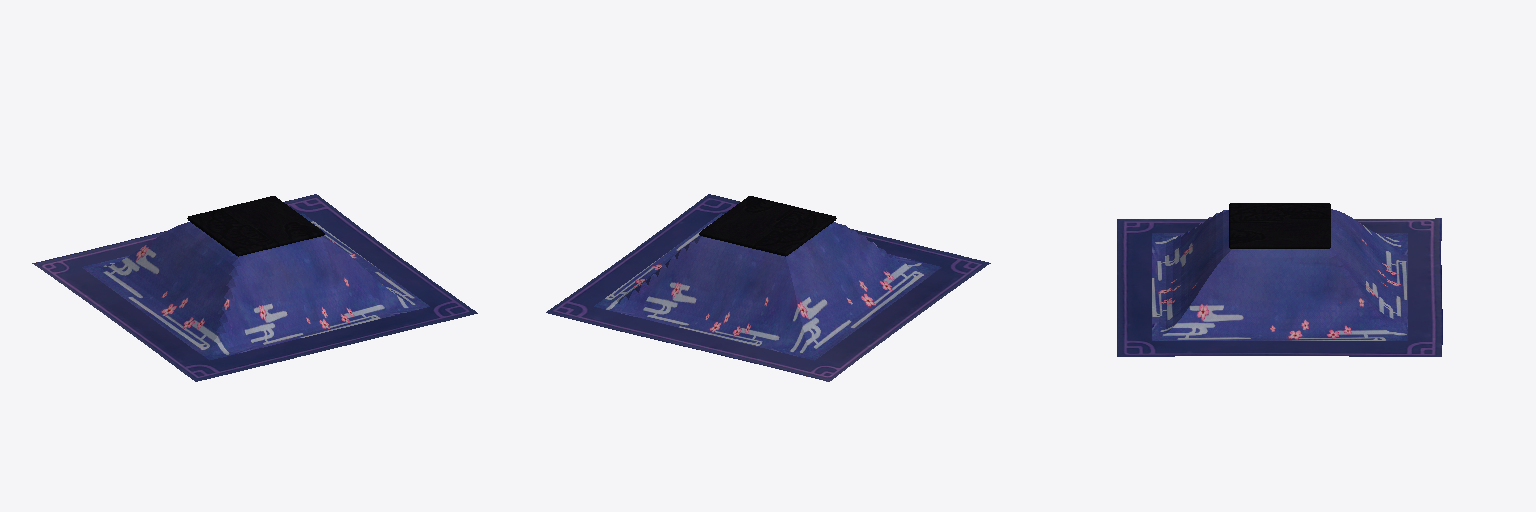
The picture shows the model from 3 angles: view 1: azimuth 30°, elevation 25°; view 2: azimuth 150°, elevation 25°; view 3: azimuth 270°, elevation 25°; orthographic projection.
Visible parts, largest first — view 1: Plane.005; view 2: Plane.005; view 3: Plane.005.
Boxes of the visible parts, x1=… form: Plane.005: x1=32, y1=194, x2=477, y2=381; Plane.005: x1=546, y1=194, x2=990, y2=381; Plane.005: x1=1117, y1=203, x2=1442, y2=356.
Bounding box in the file's own units: 2.97 × 0.6378 × 2.97.
Materials: 3 (3 with a texture image).